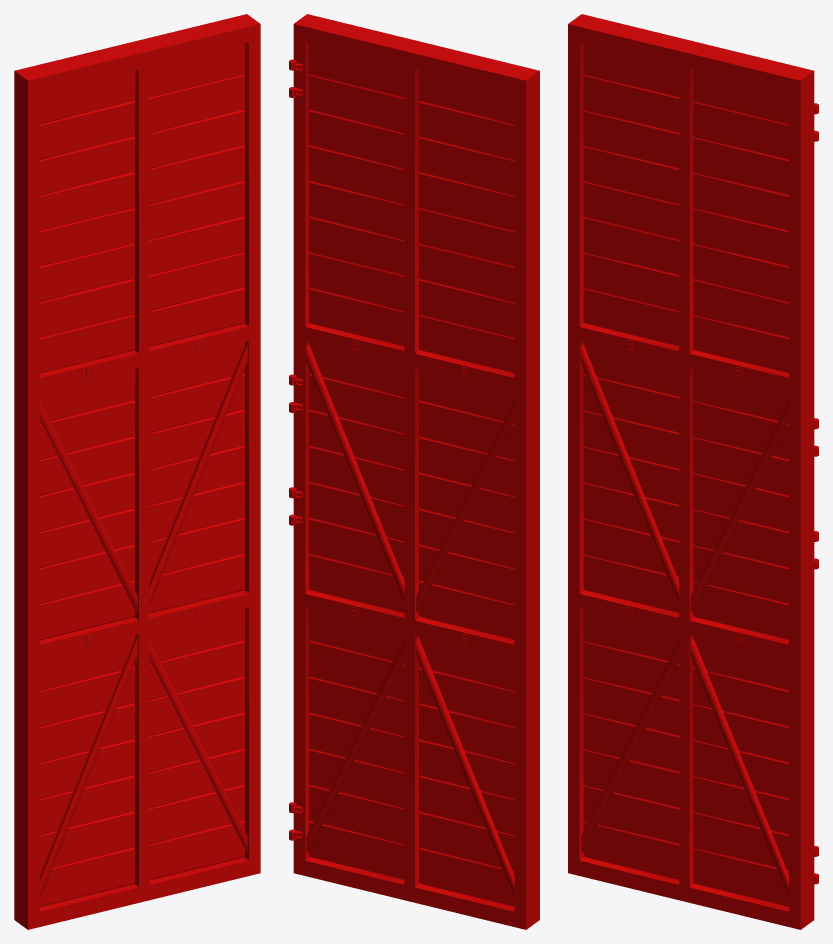
3 renders of one model, left to right at view 1: azimuth 30°, elevation 25°; view 2: azimuth 150°, elevation 25°; view 3: azimuth 330°, elevation 25°, orthographic.
Visible parts, largest first — view 1: Mesh; view 2: Mesh; view 3: Mesh.
Part boxes in pixels (x1,y1,x2,y2): Mesh: (14,14,260,929); Mesh: (289,14,539,929); Mesh: (568,14,818,929).
Bounding box in the file's own units: 6.06 × 20.92 × 0.7879.
